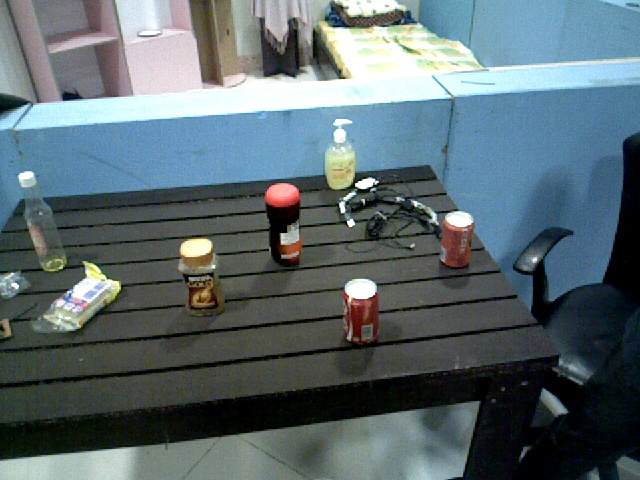coca: (345, 279, 380, 345)
coffee: (181, 237, 225, 319)
cream: (266, 181, 306, 271)
fanta: (444, 210, 471, 271)
